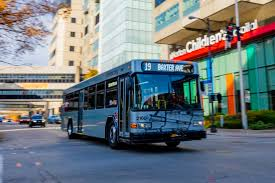bus: (59, 58, 206, 147)
